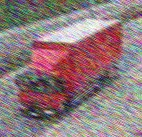truck: (21, 18, 124, 118)
